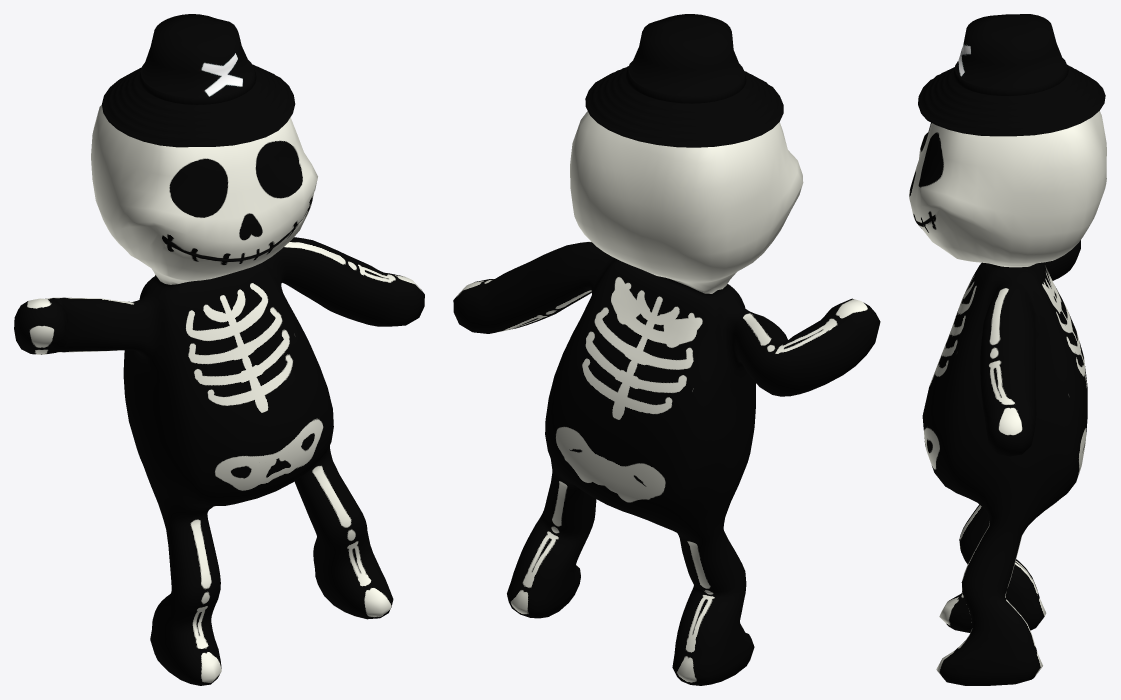
Rendered from StatueDusty.glb.
3 views of the same model, side by side, from view 1: azimuth 30°, elevation 25°; view 2: azimuth 150°, elevation 25°; view 3: azimuth 270°, elevation 25° (orthographic). The views are drawn at different scales.
Visible parts, largest first — view 1: Dusty; view 2: Dusty; view 3: Dusty.
Boxes of the visible parts, bbox=[...] form: Dusty: bbox=[14, 14, 424, 685]; Dusty: bbox=[453, 14, 880, 685]; Dusty: bbox=[909, 14, 1106, 685].
Bounding box in the file's own units: 0.6406 × 0.9557 × 0.2792.
2 materials, 2 textured.
